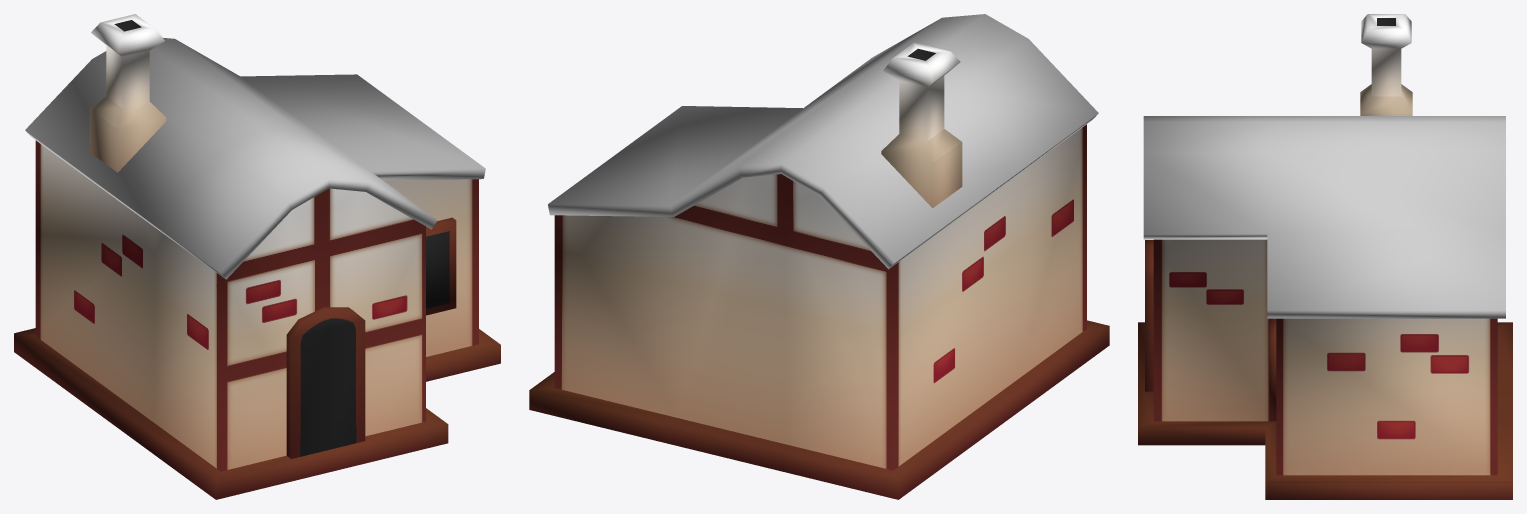
The model's file is House.fbx.
3 renders of one model, left to right at view 1: azimuth 30°, elevation 25°; view 2: azimuth 150°, elevation 25°; view 3: azimuth 270°, elevation 25°, orthographic. The views are drawn at different scales.
Parts seen in each view (by area): view 1: House; view 2: House; view 3: House.
Boxes of the visible parts, x1,y1,x2,y2 form: House: (14, 14, 500, 499); House: (529, 14, 1109, 499); House: (1138, 14, 1512, 499).
Size of the model in its own units: 530 by 523 by 524.
